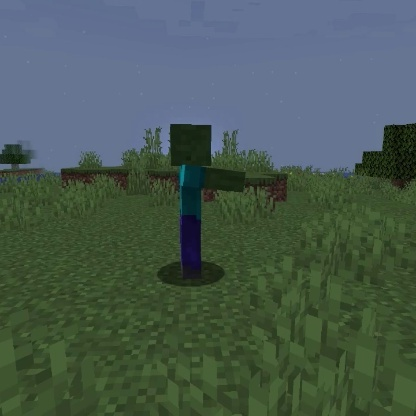zombie: (165, 121, 251, 283)
